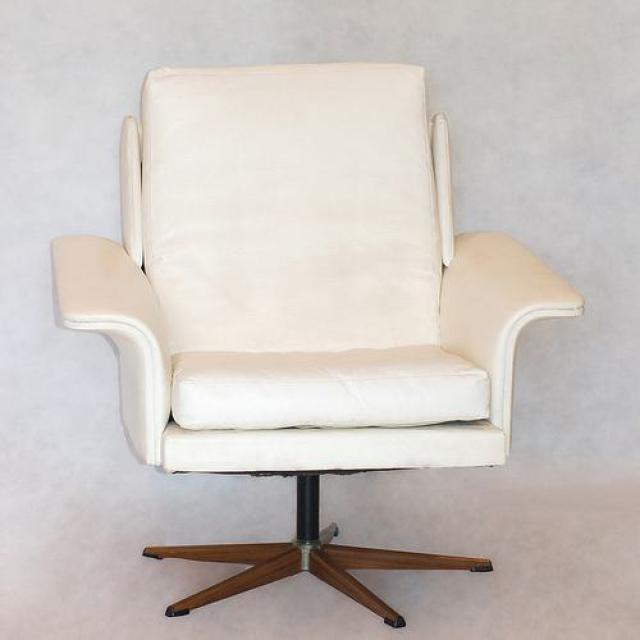swivelchair: (49, 61, 585, 628)
